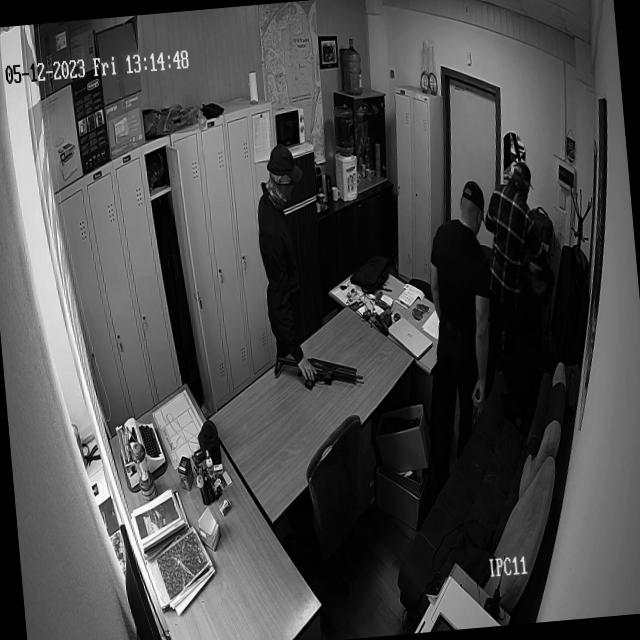gun: (271, 346, 364, 392), (468, 385, 485, 428)
person: (250, 144, 321, 356), (480, 160, 546, 371)
person with a gun: (421, 178, 500, 442)
